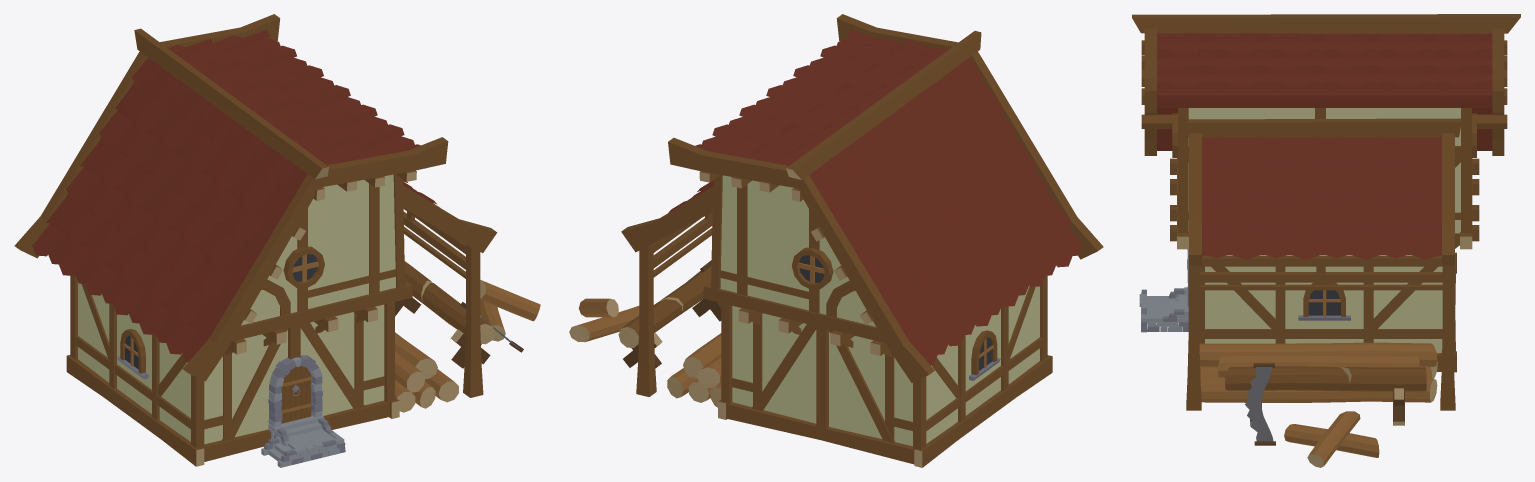
File: Sawmill.glb
3 views of the same model, side by side, from view 1: azimuth 30°, elevation 25°; view 2: azimuth 150°, elevation 25°; view 3: azimuth 270°, elevation 25° (orthographic). The views are drawn at different scales.
Visible parts, largest first — view 1: Sawmill; view 2: Sawmill; view 3: Sawmill.
Part boxes in pixels (x1=…): Sawmill: x1=14, y1=14, x2=540, y2=467; Sawmill: x1=569, y1=14, x2=1103, y2=467; Sawmill: x1=1132, y1=14, x2=1520, y2=467.
Size of the model in its own units: 4.4 by 2.86 by 3.28.
1 material, 1 textured.
